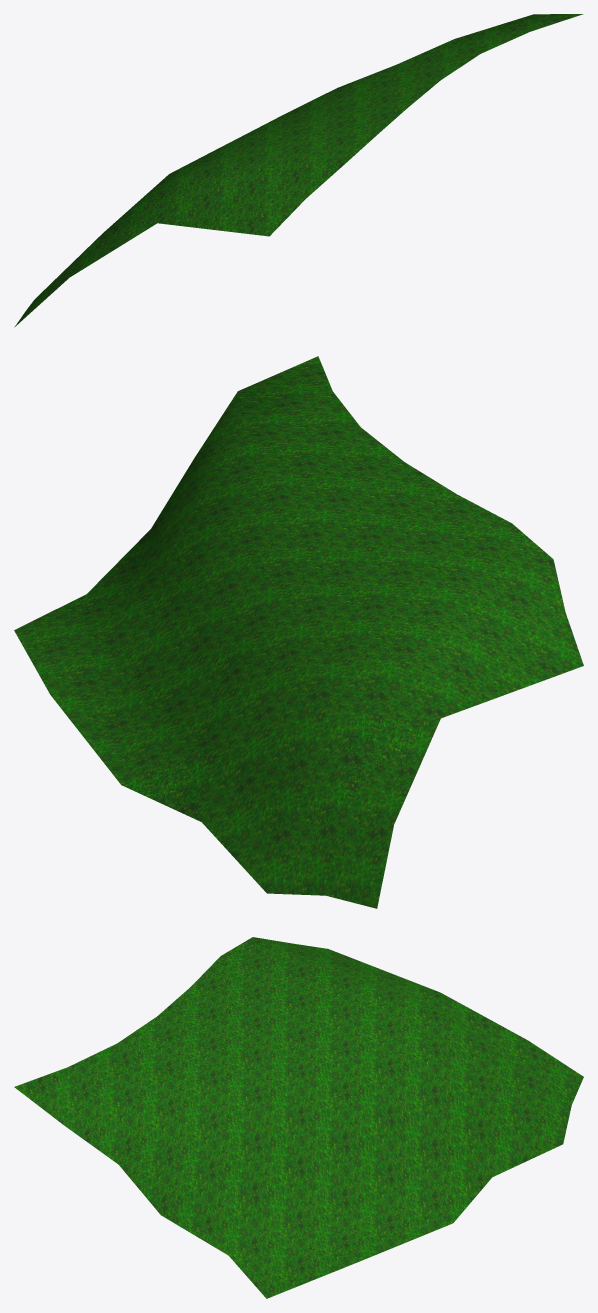
Rendered from HTOWN01_PS27.fbx.
The picture shows the model from 3 angles, top to bottom: view 1: azimuth 90°, elevation 25°; view 2: azimuth 150°, elevation 25°; view 3: azimuth 270°, elevation 25°; orthographic projection. The views are drawn at different scales.
Visible parts, largest first — view 1: HTOWN01_PS27; view 2: HTOWN01_PS27; view 3: HTOWN01_PS27.
Part boxes in pixels (x1,y1,x2,y2): HTOWN01_PS27: (14, 14, 583, 327); HTOWN01_PS27: (14, 356, 583, 908); HTOWN01_PS27: (14, 937, 583, 1298).
Size of the model in its own units: 262574 by 90977 by 266603.
2 materials, 2 textured.
